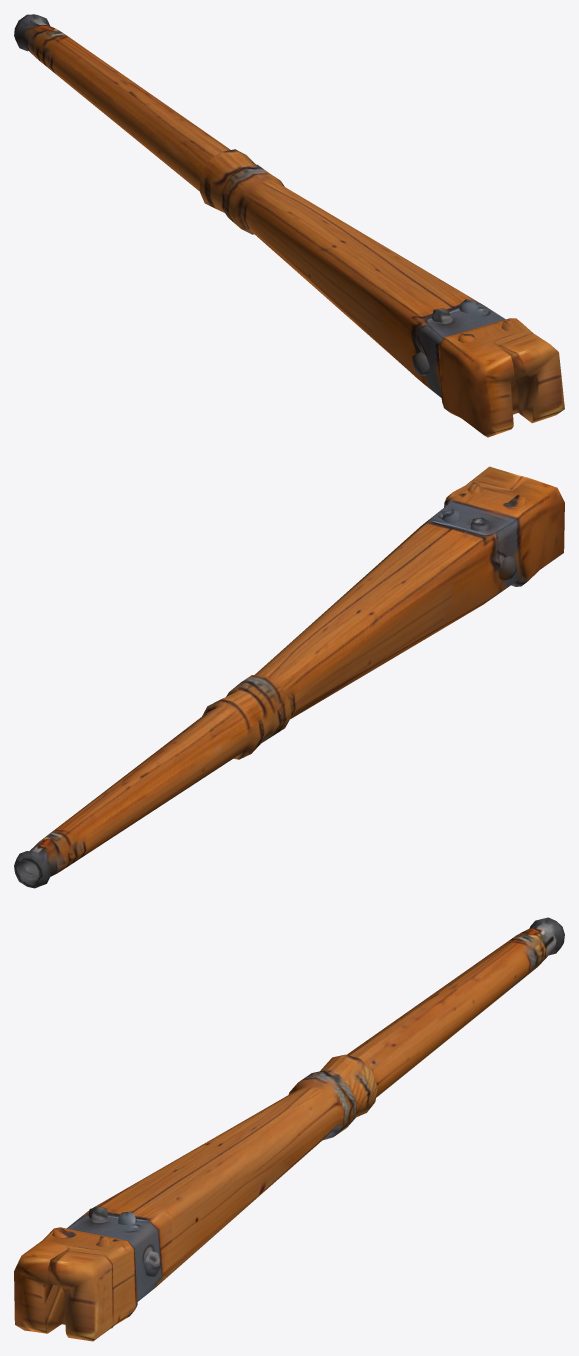
Rendered from bowsprit.glb.
3 renders of one model, top to bottom at view 1: azimuth 30°, elevation 25°; view 2: azimuth 150°, elevation 25°; view 3: azimuth 330°, elevation 25°, orthographic.
Parts seen in each view (by area): view 1: bowsprit; view 2: bowsprit; view 3: bowsprit.
Part boxes in pixels (<box>): bowsprit: <box>14,14,564,437</box>; bowsprit: <box>14,466,564,888</box>; bowsprit: <box>14,917,564,1341</box>.
Bounding box in the file's own units: 0.3297 × 0.3 × 3.
1 material, 1 textured.
